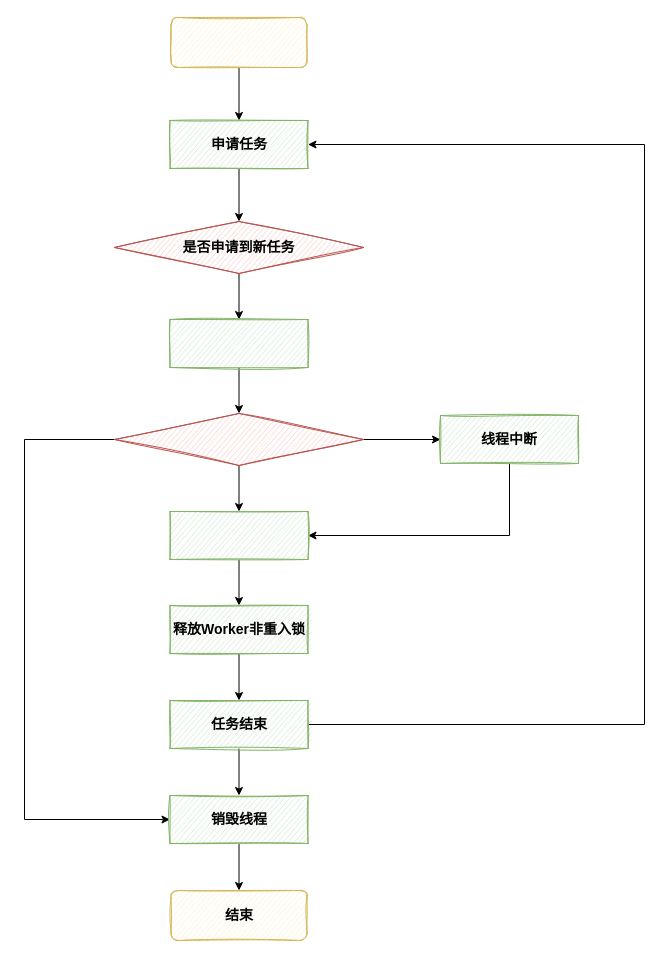
Image size: 670x958. Some labels were removed from this diagram. Each missing label, with the centre of its shape:
开始: the point at 238,42
执行任务: the point at 238,535
申请Worker非重入锁: the point at 238,343
线程池是否处于STOP后的状态: the point at 239,439
